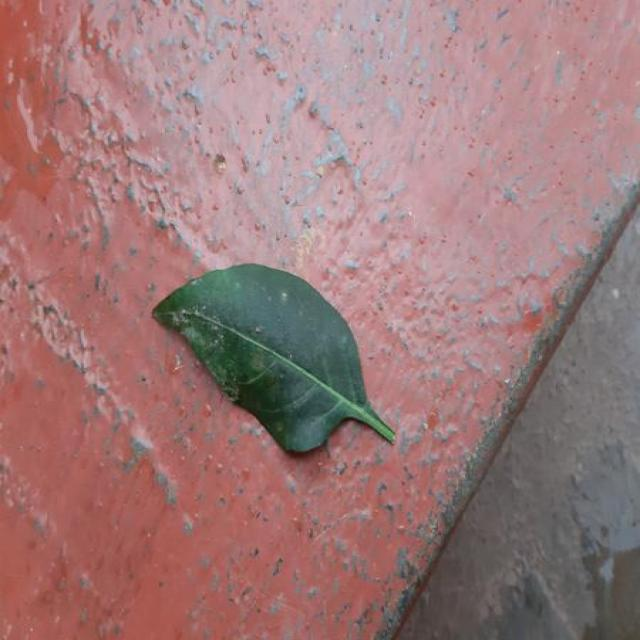chilly: (153, 264, 395, 452)
